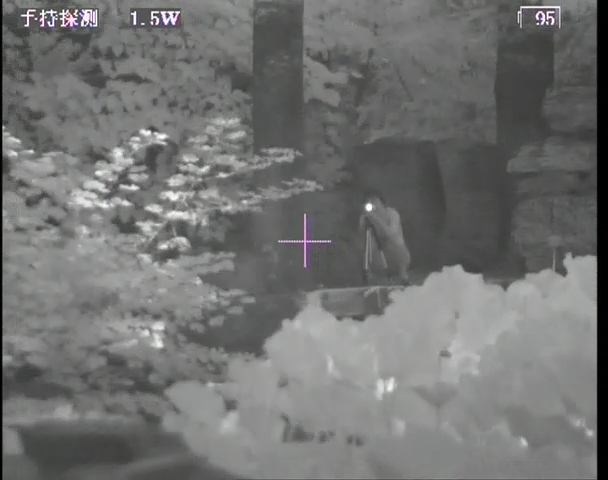my: (361, 203, 374, 212)
